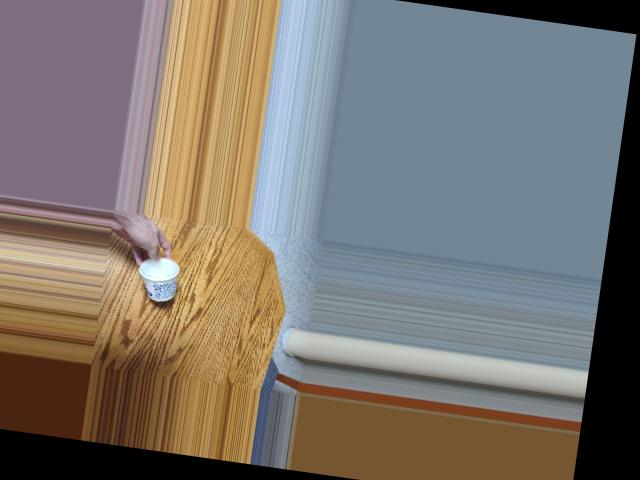cotage: (136, 257, 185, 305)
